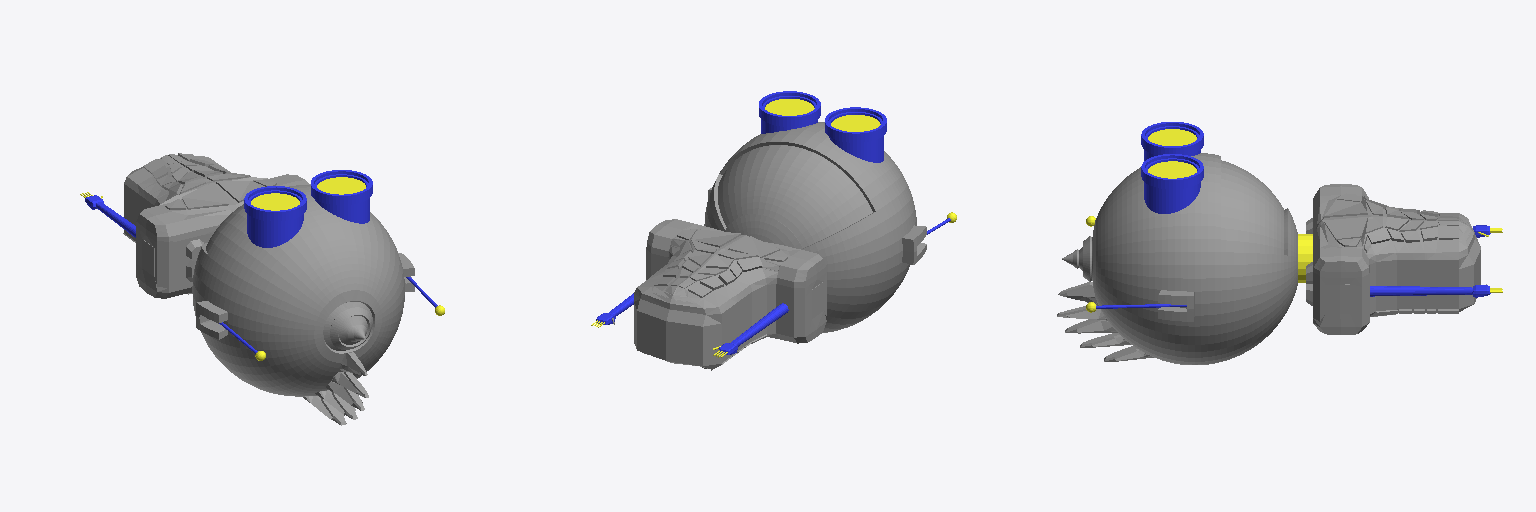
3 renders of one model, left to right at view 1: azimuth 30°, elevation 25°; view 2: azimuth 150°, elevation 25°; view 3: azimuth 270°, elevation 25°, orthographic.
Visible parts, largest first — view 1: Jasubot_PRO-01_Cabeza__pSphere1, Jasubot_PRO-01_Torso, Jasubot_PRO-01_Cabeza__pPipe3, Jasubot_PRO-01_Cabeza__pPipe4, Jasubot_PRO-01_Cabeza__pPipe2, Jasubot_PRO-01_Cabeza__pPipe1, Jasubot_PRO-01_Cabeza__pCylinder2, Jasubot_PRO-01_Cabeza__pCylinder1; view 2: Jasubot_PRO-01_Cabeza__pSphere1, Jasubot_PRO-01_Torso, Jasubot_PRO-01_Cabeza__pPipe2, Jasubot_PRO-01_Cabeza__pPipe4, Jasubot_PRO-01_Cabeza__pPipe3, Jasubot_PRO-01_Cabeza__pCylinder2, Jasubot_PRO-01_Cabeza__pCylinder1, Jasubot_PRO-01_Braso_1; view 3: Jasubot_PRO-01_Cabeza__pSphere1, Jasubot_PRO-01_Torso, Jasubot_PRO-01_Cabeza__pPipe1, Jasubot_PRO-01_Cabeza__pPipe2, Jasubot_PRO-01_Cabeza__pPipe4, Jasubot_PRO-01_Braso_2, Jasubot_PRO-01_Cabeza__pCylinder1, Jasubot_PRO-01_Cabeza__pCylinder2, Jasubot_PRO-01_Cuello.
Boxes of the visible parts, <box> form: Jasubot_PRO-01_Cabeza__pSphere1: <box>192,185,414,425</box>; Jasubot_PRO-01_Torso: <box>123,153,310,298</box>; Jasubot_PRO-01_Cabeza__pPipe3: <box>247,190,303,247</box>; Jasubot_PRO-01_Cabeza__pPipe4: <box>244,186,306,221</box>; Jasubot_PRO-01_Cabeza__pPipe2: <box>311,170,372,204</box>; Jasubot_PRO-01_Cabeza__pPipe1: <box>314,174,369,223</box>; Jasubot_PRO-01_Cabeza__pCylinder2: <box>251,193,299,210</box>; Jasubot_PRO-01_Cabeza__pCylinder1: <box>317,177,365,194</box>; Jasubot_PRO-01_Cabeza__pSphere1: <box>704,122,926,333</box>; Jasubot_PRO-01_Torso: <box>634,219,826,370</box>; Jasubot_PRO-01_Cabeza__pPipe2: <box>759,91,820,126</box>; Jasubot_PRO-01_Cabeza__pPipe4: <box>825,107,886,142</box>; Jasubot_PRO-01_Cabeza__pPipe3: <box>829,112,883,162</box>; Jasubot_PRO-01_Cabeza__pCylinder2: <box>831,115,880,131</box>; Jasubot_PRO-01_Cabeza__pCylinder1: <box>765,99,814,115</box>; Jasubot_PRO-01_Braso_1: <box>730,303,788,346</box>; Jasubot_PRO-01_Cabeza__pSphere1: <box>1057,153,1297,364</box>; Jasubot_PRO-01_Torso: <box>1306,184,1480,334</box>; Jasubot_PRO-01_Cabeza__pPipe1: <box>1144,158,1200,213</box>; Jasubot_PRO-01_Cabeza__pPipe2: <box>1141,154,1203,189</box>; Jasubot_PRO-01_Cabeza__pPipe4: <box>1141,122,1203,155</box>; Jasubot_PRO-01_Braso_2: <box>1370,286,1472,296</box>; Jasubot_PRO-01_Cabeza__pCylinder1: <box>1148,161,1196,178</box>; Jasubot_PRO-01_Cabeza__pCylinder2: <box>1148,129,1196,145</box>; Jasubot_PRO-01_Cuello: <box>1298,234,1312,282</box>.
Size of the model in its own units: 0.8797 by 0.8519 by 1.65.
4 materials, 2 textured.